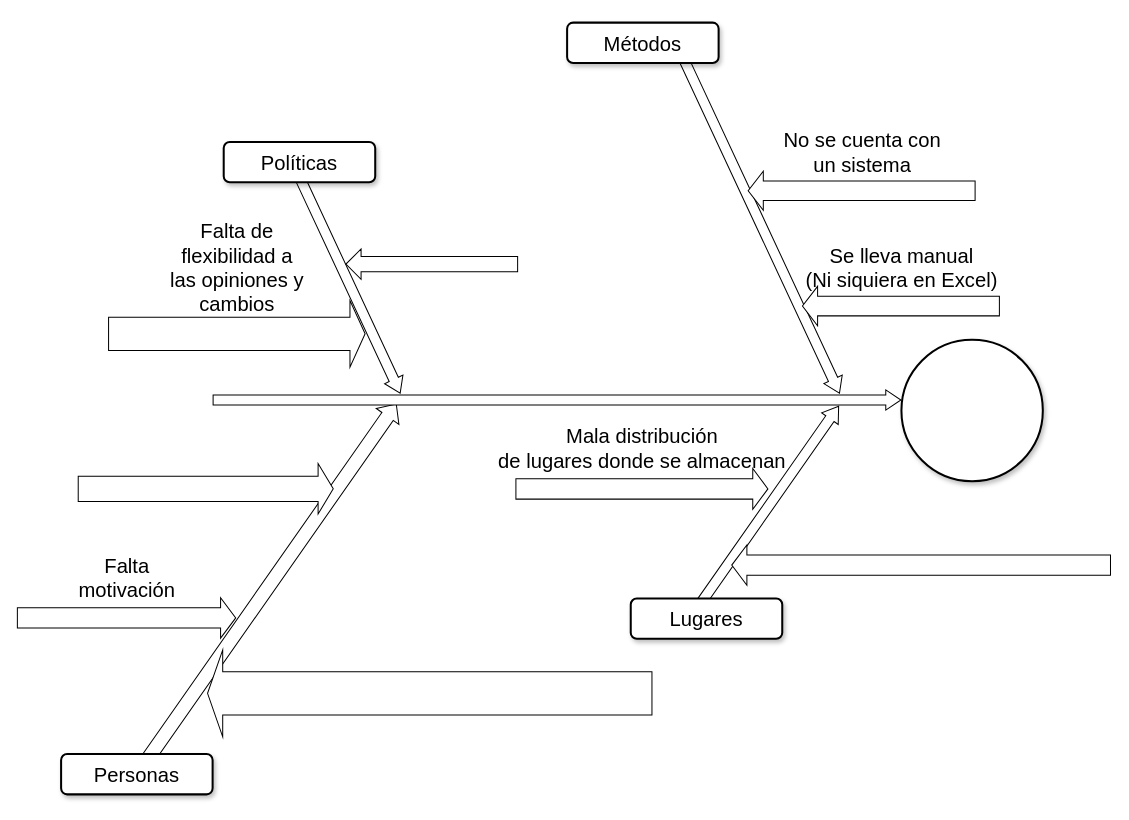
Image size: 1129x820. Some labels were removed from this diagram. The centre of each missing label's shape, as x and y in pixels:
Deficiencia de Control de Clientes: point 972,411
División de las sucursales y reparto de clientes: point 920,564
Falta capacidad para el uso de herramientas: point 429,693
Falta capacitación: point 205,488
Políticas Inadecuadas: point 431,263
